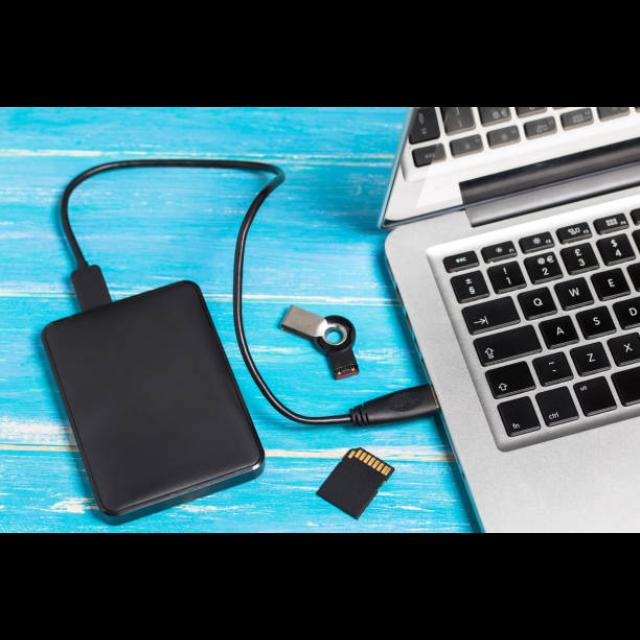HDD: (41, 281, 266, 526)
